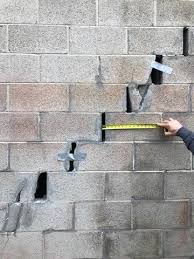stairstep_crack: (0, 24, 190, 206)
